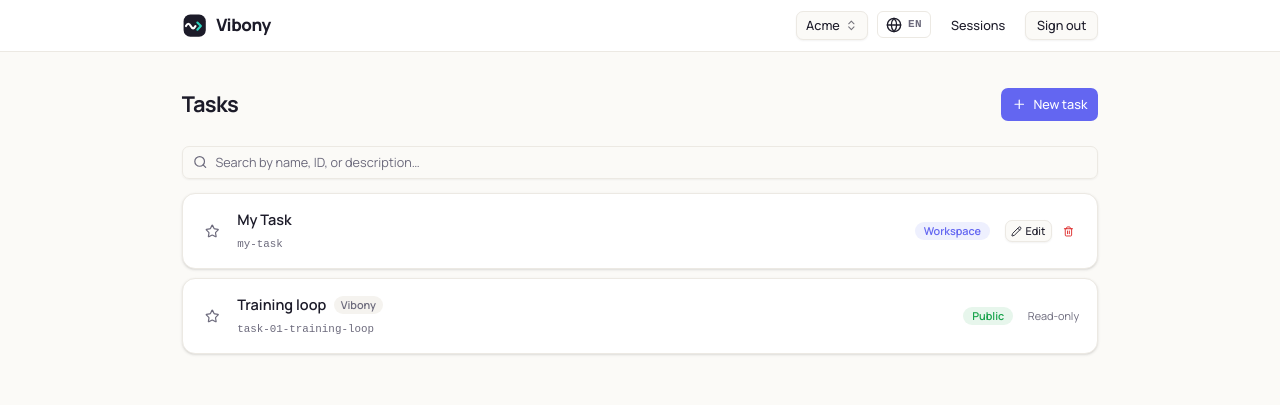
Scenario: TasksPage › reverts the star + shows an error when the favorite request fails
The width and height of the screenshot is (1280, 405).
Expected: the element with test id "task-row-own1" is shown, [182, 193, 1098, 269]
What coordinates should you click on to do the following:
click the button with test id "task-favorite-own1"
I would click on:
 (212, 231)
Its box is [201, 220, 223, 242].
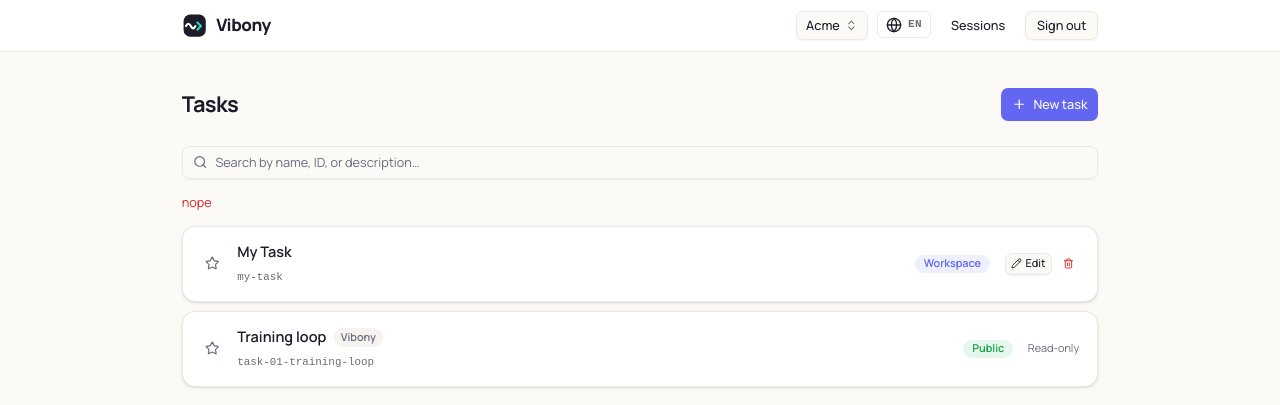
Now the message "nope" is shown, box [182, 193, 212, 211]
